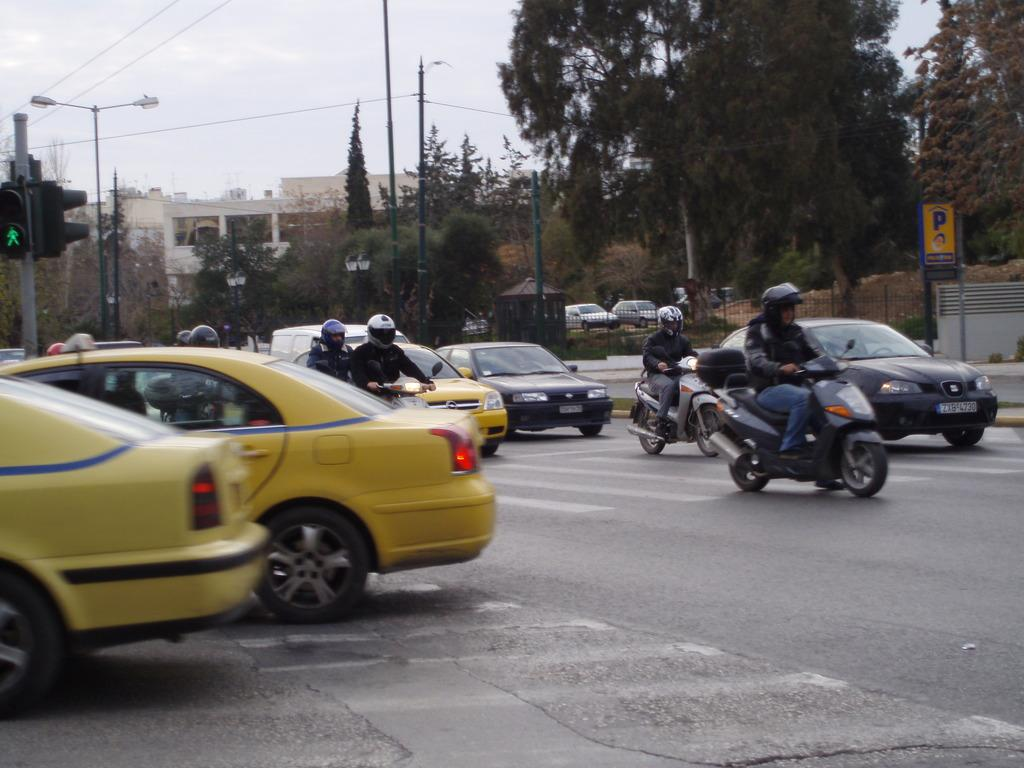taxi: (1, 335, 497, 622), (1, 375, 272, 721), (293, 343, 508, 458)
